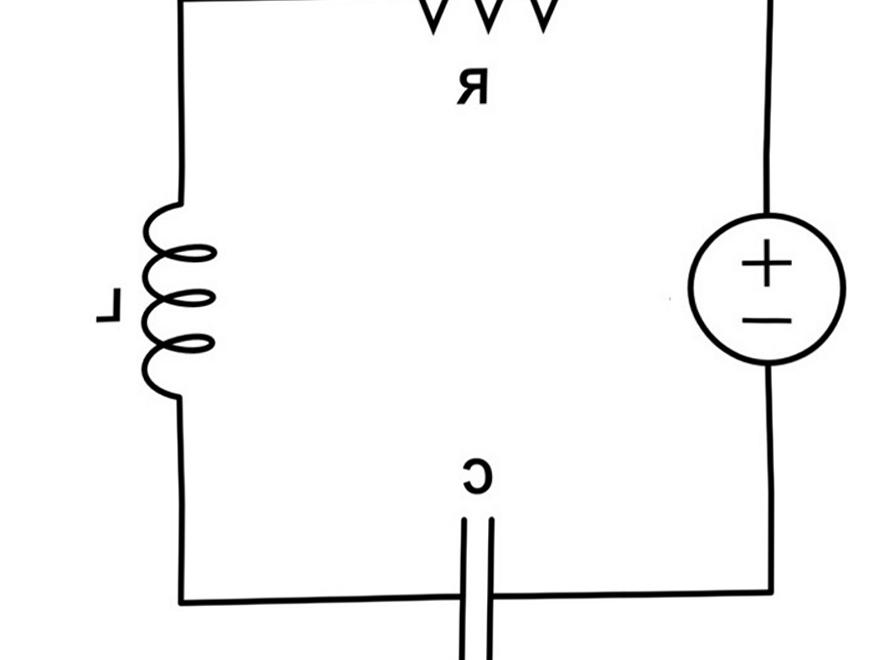Battery: (670, 189, 865, 391)
